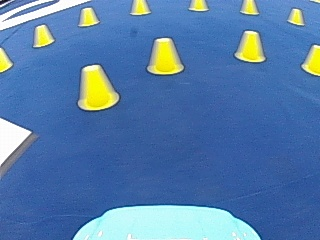cone: (76, 64, 118, 111), (146, 36, 183, 75), (234, 29, 266, 62), (301, 43, 319, 75), (32, 24, 53, 47), (78, 6, 99, 27), (287, 7, 304, 25), (0, 46, 12, 71), (130, 0, 149, 15), (240, 0, 258, 15), (189, 0, 207, 11)
